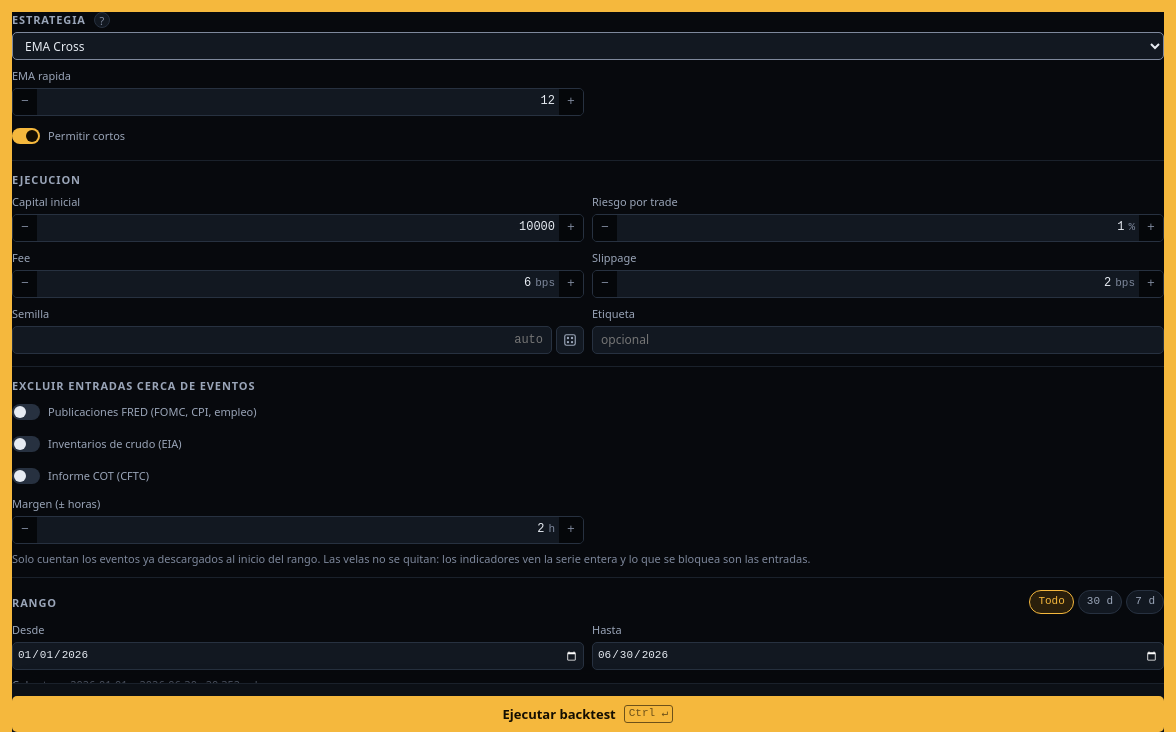
controles del panel de parametros › las unidades de ejecucion avanzan con su propio paso
Expected: the number field labelled "EMA rapida" is shown, x1=37 y1=89 x2=559 y2=115
Click the button named "Aumentar Fee". click: (571, 284)
box: x1=559 y1=271 x2=583 y2=297
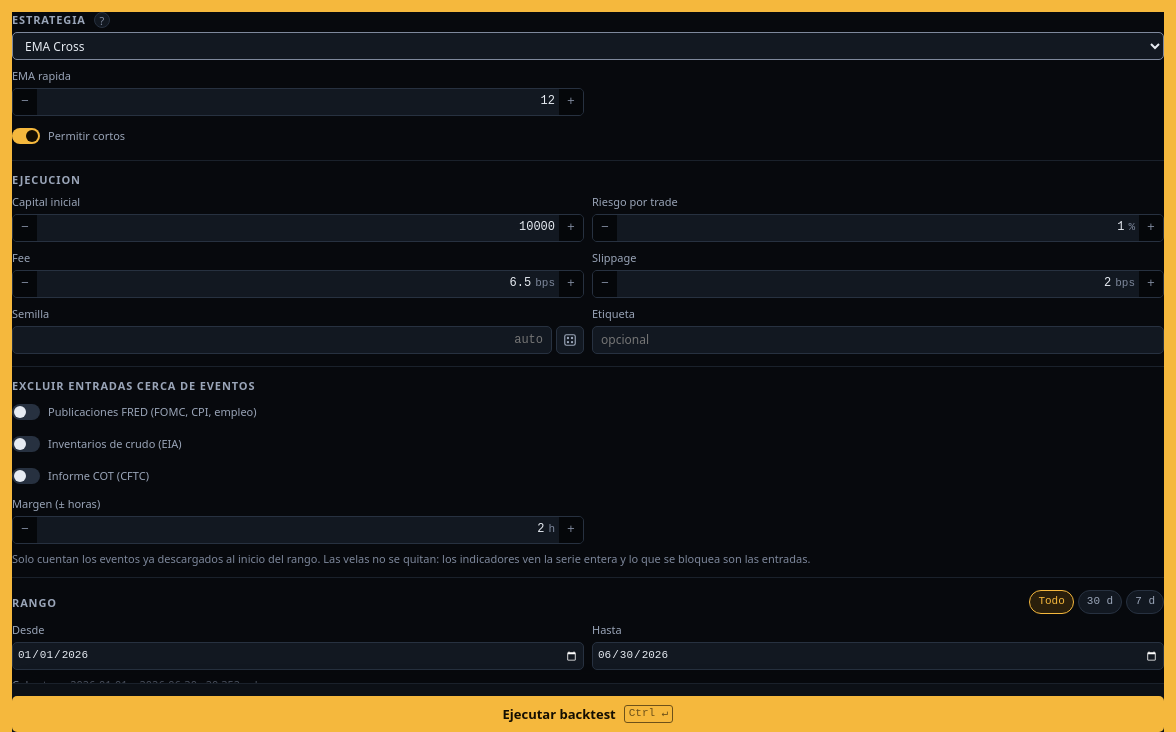
Now the number field named "Fee (bps)" holds "6.5", box x1=37 y1=271 x2=535 y2=297
